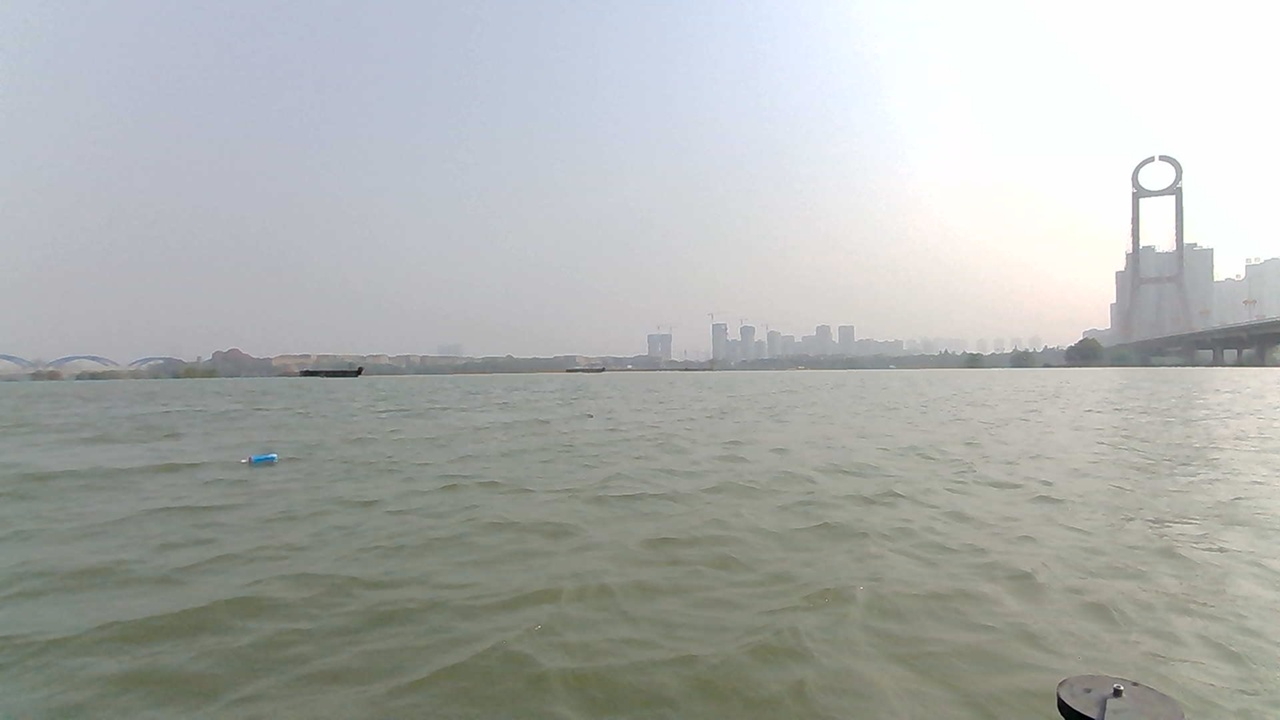bottle: (240, 450, 285, 472)
